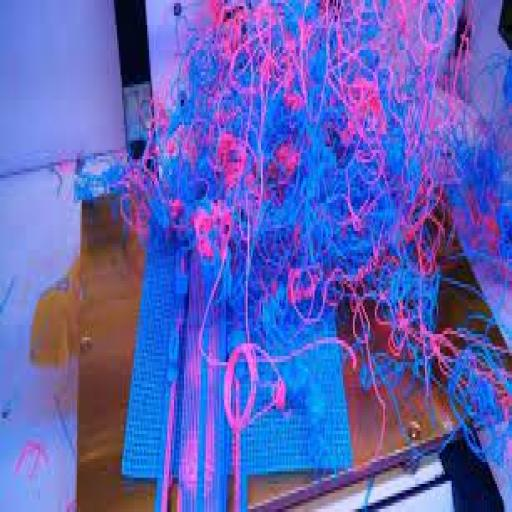spaghetti: (104, 15, 458, 353)
